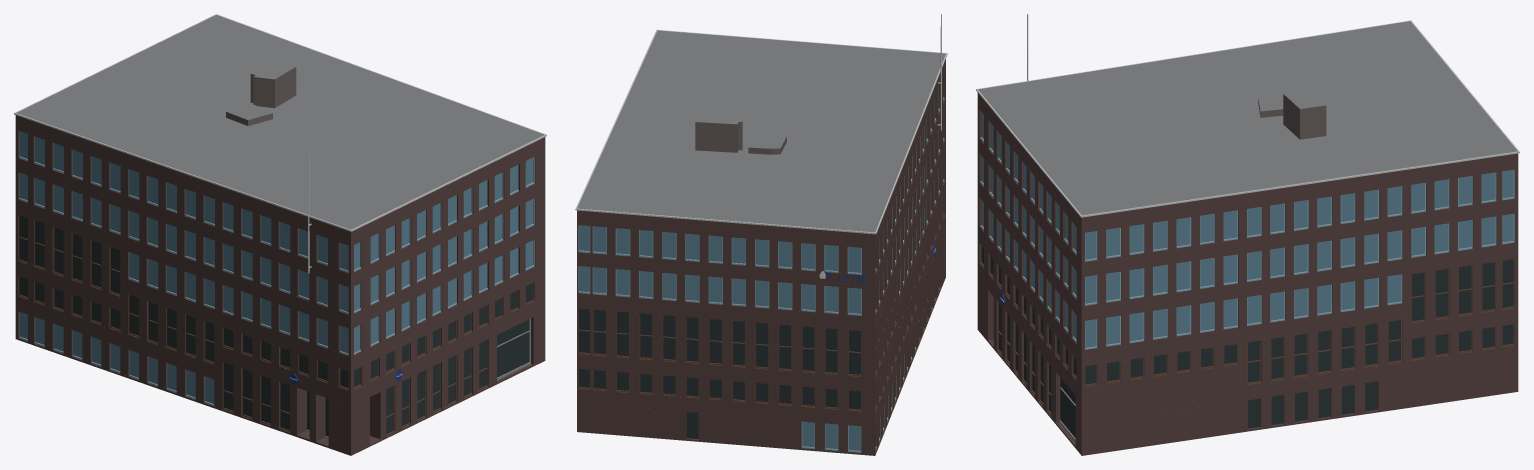
The model's file is politie-oost-watergraafsmeer.glb.
3 renders of one model, left to right at view 1: azimuth 30°, elevation 25°; view 2: azimuth 150°, elevation 25°; view 3: azimuth 270°, elevation 25°, orthographic. The views are drawn at different scales.
Parts seen in each view (by area): view 1: politie-oost-watergraafsmeer; view 2: politie-oost-watergraafsmeer; view 3: politie-oost-watergraafsmeer.
Part boxes in pixels (x1,y1,x2,y2): politie-oost-watergraafsmeer: [14, 14, 546, 455]; politie-oost-watergraafsmeer: [575, 14, 947, 455]; politie-oost-watergraafsmeer: [976, 14, 1519, 455].
Size of the model in its own units: 34.34 by 25 by 40.28.
